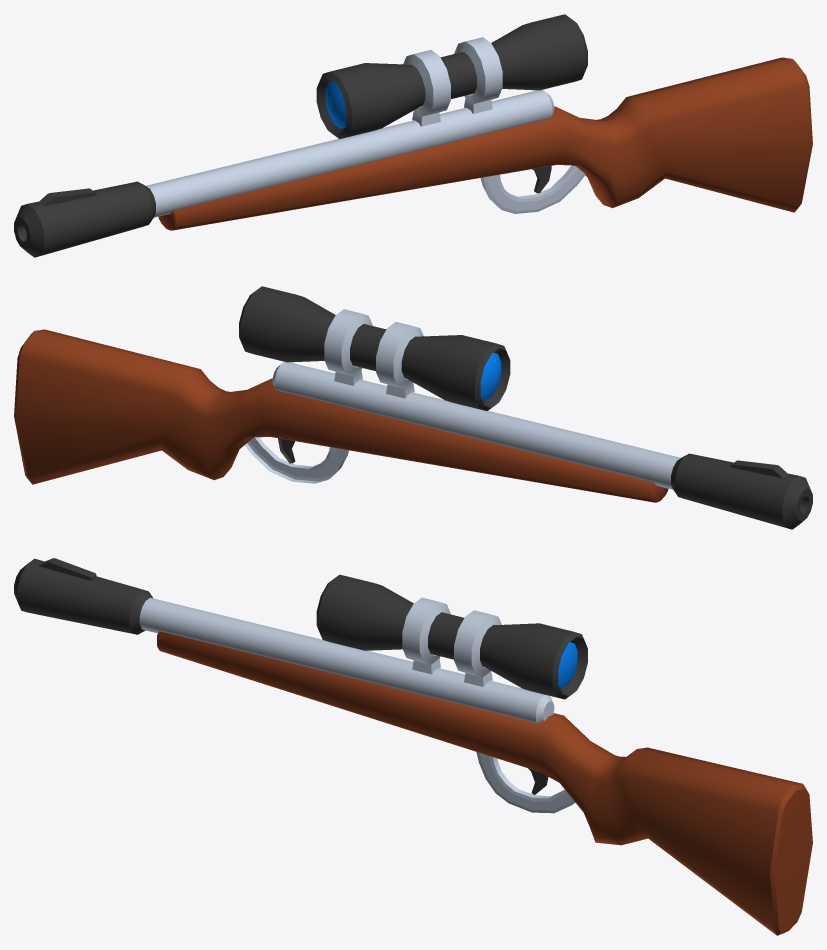
Rendered from sniper_rifle.fbx.
The picture shows the model from 3 angles, top to bottom: view 1: azimuth 30°, elevation 25°; view 2: azimuth 150°, elevation 25°; view 3: azimuth 330°, elevation 25°; orthographic projection.
Parts seen in each view (by area): view 1: Sniper_Rifle; view 2: Sniper_Rifle; view 3: Sniper_Rifle.
Part boxes in pixels (box(x1,y1,x2,y2)): Sniper_Rifle: box(14, 14, 812, 257); Sniper_Rifle: box(14, 286, 812, 529); Sniper_Rifle: box(14, 558, 812, 935).
Size of the model in its own units: 2518 by 761 by 231.
Materials: 1 (1 with a texture image).
